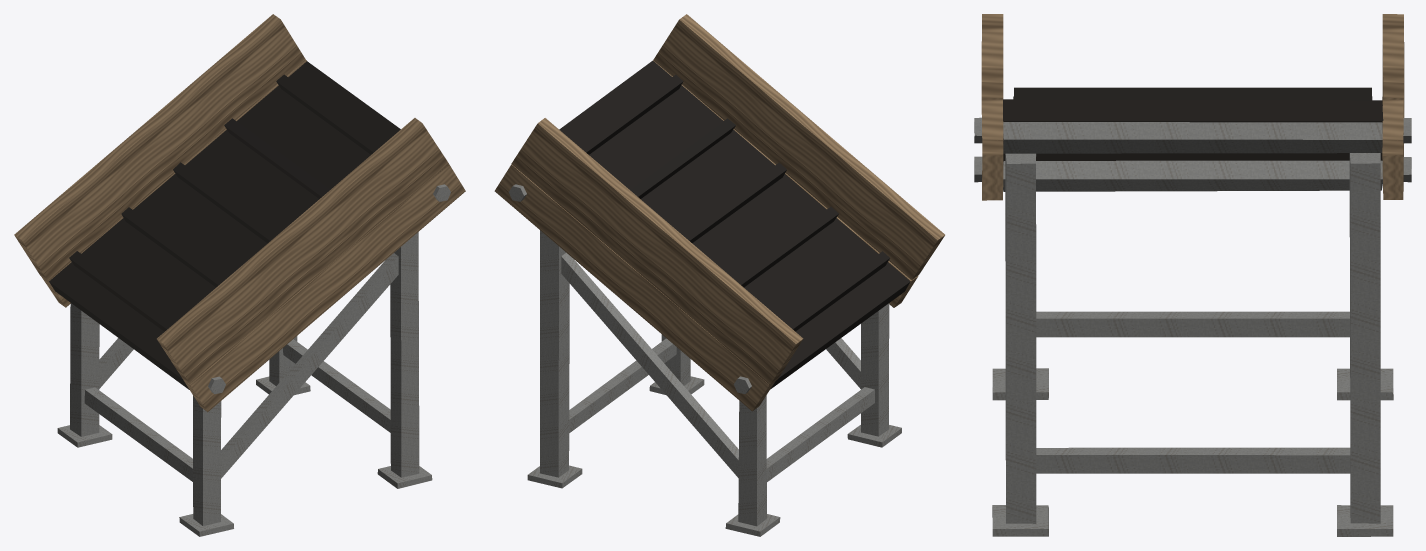
Rendered from conveyor_ramp.glb.
3 views of the same model, side by side, from view 1: azimuth 30°, elevation 25°; view 2: azimuth 150°, elevation 25°; view 3: azimuth 270°, elevation 25° (orthographic). The views are drawn at different scales.
Parts seen in each view (by area): view 1: ConveyorRamp, Belt; view 2: ConveyorRamp, Belt; view 3: ConveyorRamp, Belt, Roller2, Roller.
Boxes of the visible parts, bbox=[...] form: ConveyorRamp: bbox=[14, 14, 465, 536]; Belt: bbox=[49, 61, 400, 389]; ConveyorRamp: bbox=[494, 14, 944, 536]; Belt: bbox=[559, 60, 910, 389]; ConveyorRamp: bbox=[974, 14, 1411, 536]; Belt: bbox=[1003, 87, 1383, 160]; Roller2: bbox=[1003, 122, 1382, 153]; Roller: bbox=[1003, 160, 1382, 191].
Size of the model in its own units: 1.97 by 2.26 by 1.74.
Materials: 3 (2 with a texture image).
